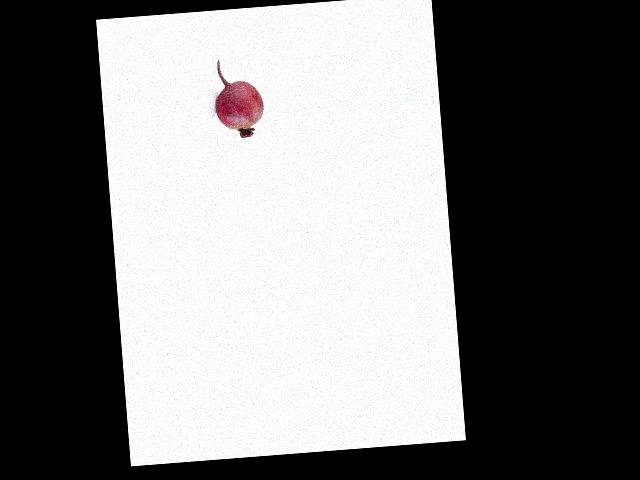beet: (211, 56, 265, 139)
